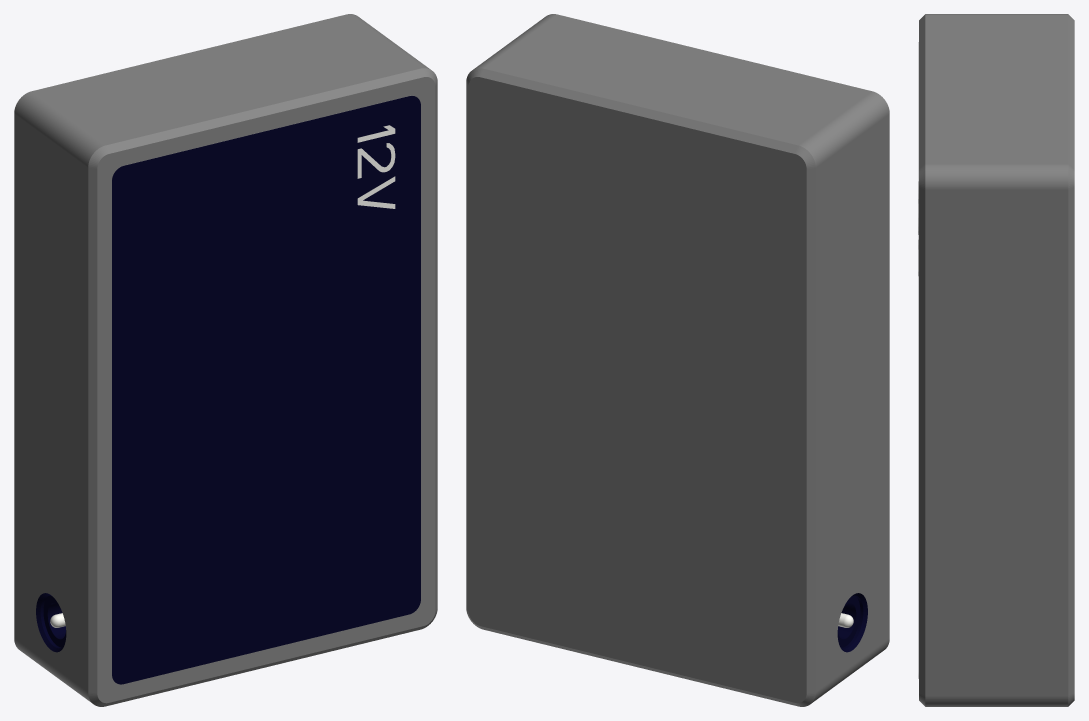
The model's file is ohstem_battery_12v.glb.
The picture shows the model from 3 angles, left to right: view 1: azimuth 30°, elevation 25°; view 2: azimuth 150°, elevation 25°; view 3: azimuth 270°, elevation 25°; orthographic projection. The views are drawn at different scales.
Parts seen in each view (by area): view 1: Node2, Node1, Node3; view 2: Node1, Node2; view 3: Node1.
Boxes of the visible parts, x1=… form: Node2: x1=36, y1=96, x2=420, y2=684; Node1: x1=14, y1=14, x2=437, y2=706; Node3: x1=50, y1=125, x2=395, y2=627; Node1: x1=466, y1=14, x2=889, y2=706; Node2: x1=837, y1=593, x2=867, y2=652; Node1: x1=918, y1=14, x2=1074, y2=706.
Size of the model in its own units: 60 by 92 by 24.1.
